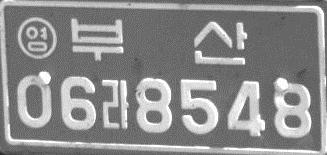0: (16, 73, 52, 129)
4: (227, 80, 265, 136)
5: (179, 78, 219, 136)
6: (59, 74, 97, 131)
8: (272, 81, 311, 140), (135, 77, 173, 134)
라: (101, 78, 131, 130)
부산_D: (69, 17, 248, 66)
영: (17, 15, 56, 61)
